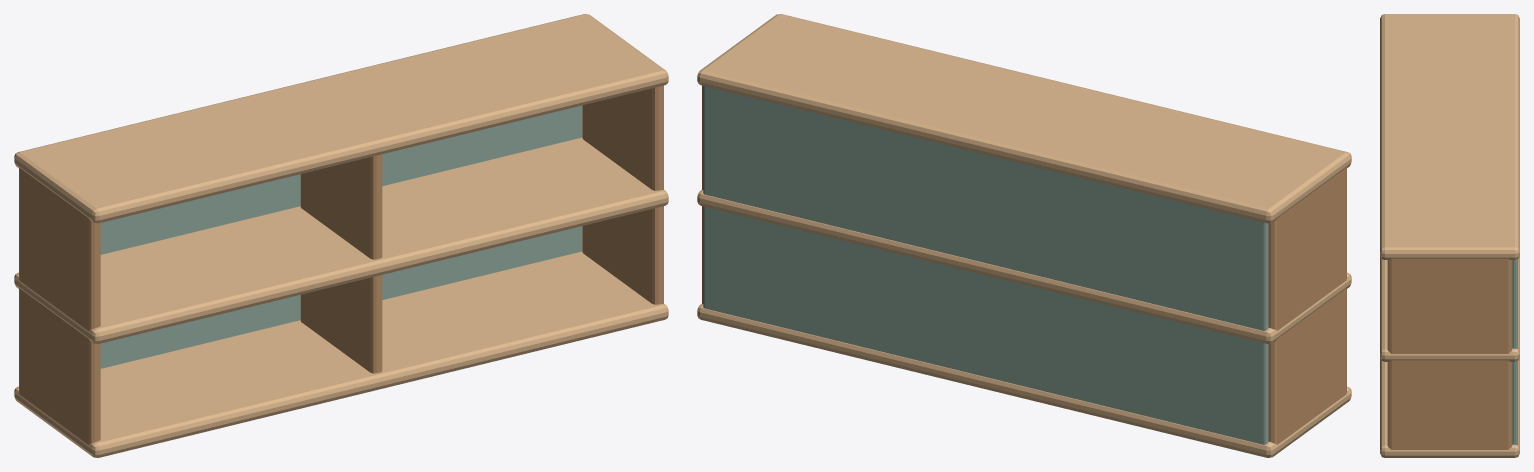
File: cubby_shelf.glb
3 renders of one model, left to right at view 1: azimuth 30°, elevation 25°; view 2: azimuth 150°, elevation 25°; view 3: azimuth 270°, elevation 25°, orthographic. The views are drawn at different scales.
Visible parts, largest first — view 1: cubby_shelf_Mesh; view 2: cubby_shelf_Mesh; view 3: cubby_shelf_Mesh.
Part boxes in pixels (box(x1,y1,x2,y2)): cubby_shelf_Mesh: box(14, 14, 668, 457); cubby_shelf_Mesh: box(697, 14, 1351, 457); cubby_shelf_Mesh: box(1380, 14, 1519, 457).
Bounding box in the file's own units: 2.25 × 0.93 × 0.56.
